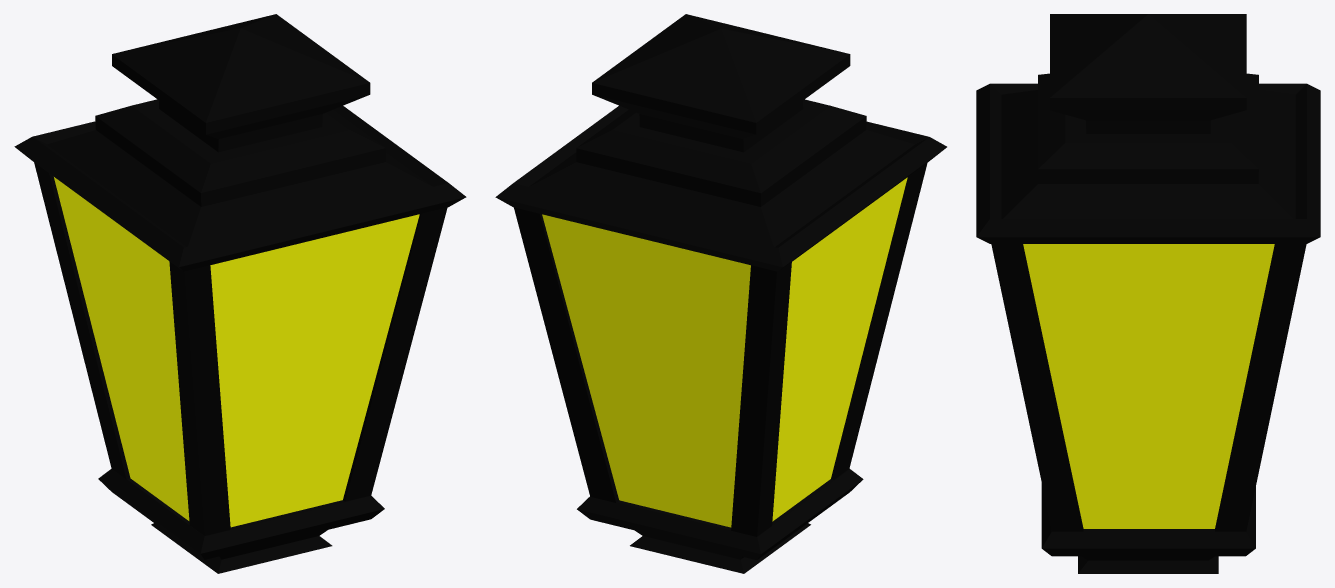
Rendered from alarm_yellow.glb.
3 views of the same model, side by side, from view 1: azimuth 30°, elevation 25°; view 2: azimuth 150°, elevation 25°; view 3: azimuth 270°, elevation 25° (orthographic). The views are drawn at different scales.
Parts seen in each view (by area): view 1: Torus.001; view 2: Torus.001; view 3: Torus.001.
Boxes of the visible parts, bbox=[...] form: Torus.001: bbox=[14, 14, 466, 573]; Torus.001: bbox=[495, 14, 946, 573]; Torus.001: bbox=[976, 14, 1320, 573].
Size of the model in its own units: 2.21 by 3.93 by 2.19.
